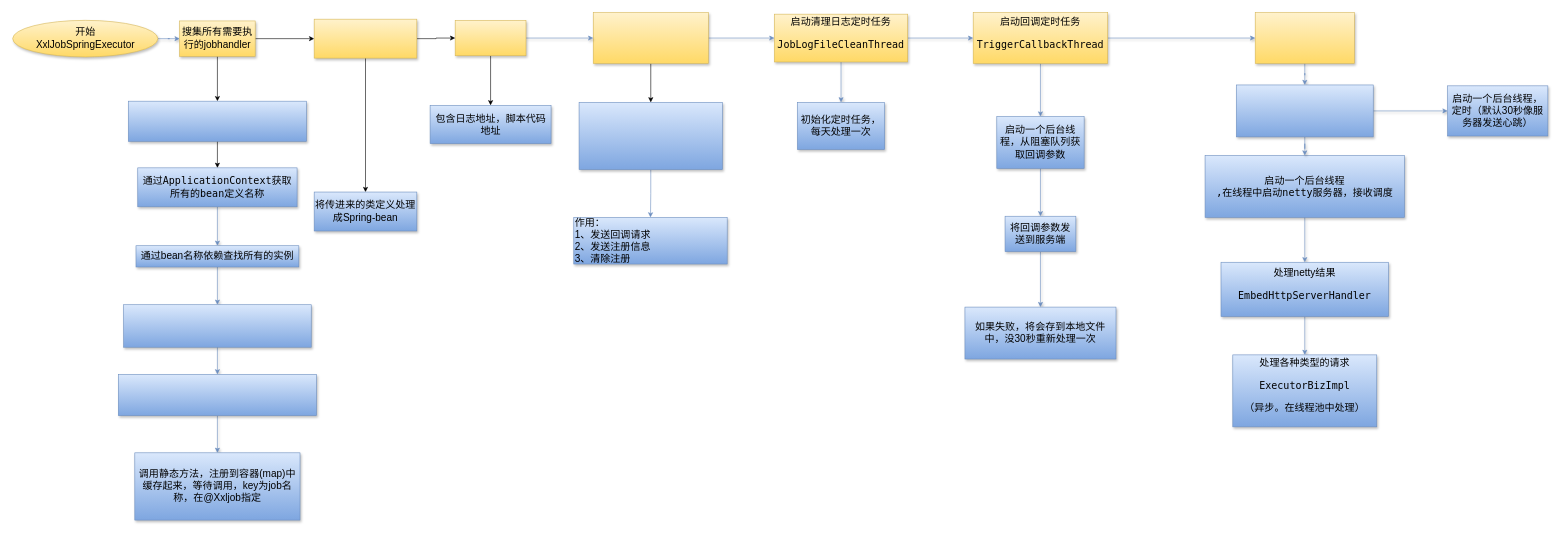
The diagram is 1562 pixels wide and 535 high, and some of its shapes have lost their labels. Here are the shapes that lost their labels. From the top down, the centre of each, then its label:
At [365,39]: "初始化 SpringGlueFactory".
At [491,38]: "设置日志地址".
At [651,39]: "初始化 AdminBizClient".
At [1305,39]: "启动内置服务器 EmbedServer".
At [217,121]: "XxlJobSpringExecutor实现了，SmartInitializingSingleton，初始化完成单例类后会触发方法。".
At [1305,111]: "启动注册定时任务 ExecutorRegistryThread".
At [651,136]: "根据配置的 adminAddresses来进行初始化，地址使用逗号隔开，多个地址就初始化多个AdminBizClient".
At [218,326]: "过滤实例，通过 MethodIntrospector查找所有使用了 @ XxlJob注解的方法 ( 新版有已经取消类注解 )".
At [217,395]: "将类，执行方法，初始化方法，销毁方法等，包装成为 MethodJobHandler".
